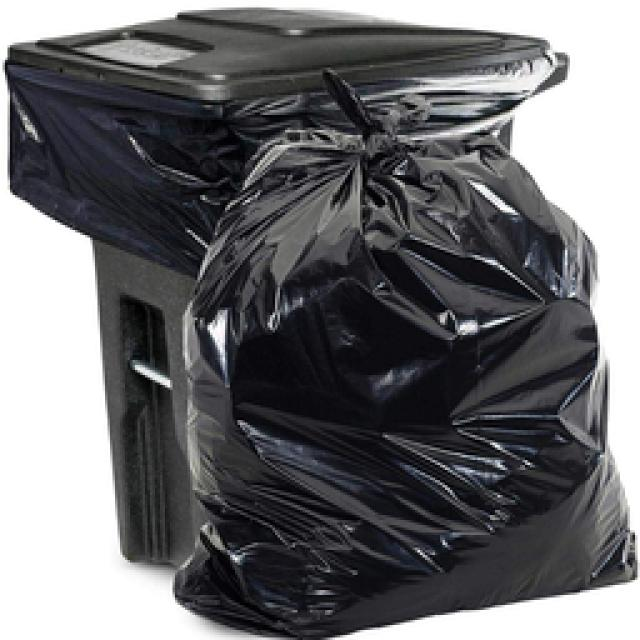plastic: (10, 55, 635, 638)
